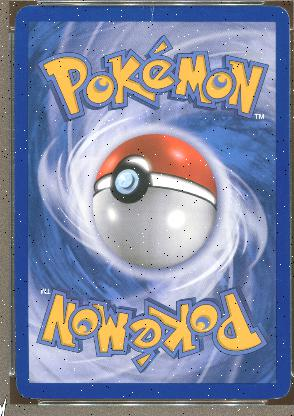Card: (12, 2, 292, 402)
Corner Wear: (14, 373, 41, 401), (262, 390, 289, 400)
Edge Wear: (15, 324, 17, 364), (201, 397, 240, 399)
Scratch: (148, 6, 155, 20), (163, 5, 167, 11)
